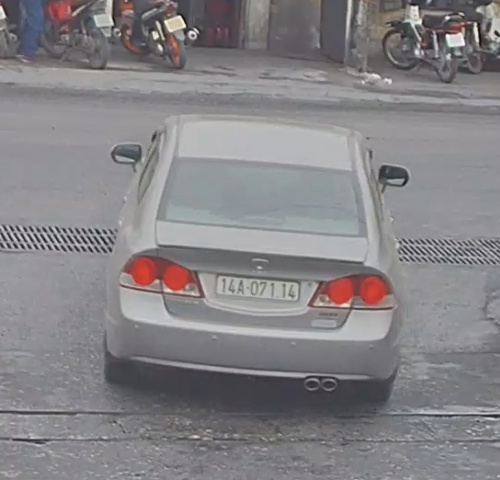vehicle plate: (213, 271, 305, 304)
